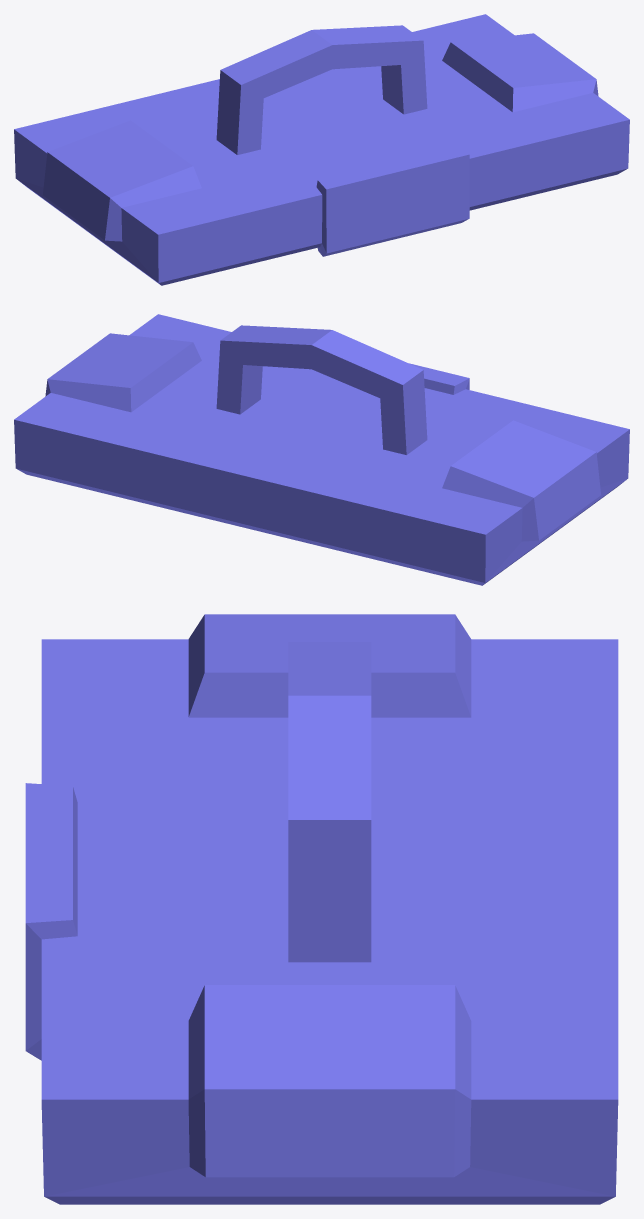
The model's file is SM_Item_ToolBox_Lid_01.obj.
3 renders of one model, top to bottom at view 1: azimuth 30°, elevation 25°; view 2: azimuth 150°, elevation 25°; view 3: azimuth 270°, elevation 25°, orthographic. The views are drawn at different scales.
Visible parts, largest first — view 1: SM_Item_ToolBox_Lid_01_Mat_PolygonTown_04_C; view 2: SM_Item_ToolBox_Lid_01_Mat_PolygonTown_04_C; view 3: SM_Item_ToolBox_Lid_01_Mat_PolygonTown_04_C.
Part boxes in pixels (x1,y1,x2,y2): SM_Item_ToolBox_Lid_01_Mat_PolygonTown_04_C: (14,14,629,285); SM_Item_ToolBox_Lid_01_Mat_PolygonTown_04_C: (14,314,629,585); SM_Item_ToolBox_Lid_01_Mat_PolygonTown_04_C: (25,614,618,1204).
Bounding box in the file's own units: 0.5444 × 0.1583 × 0.2815.
1 material, 1 textured.
